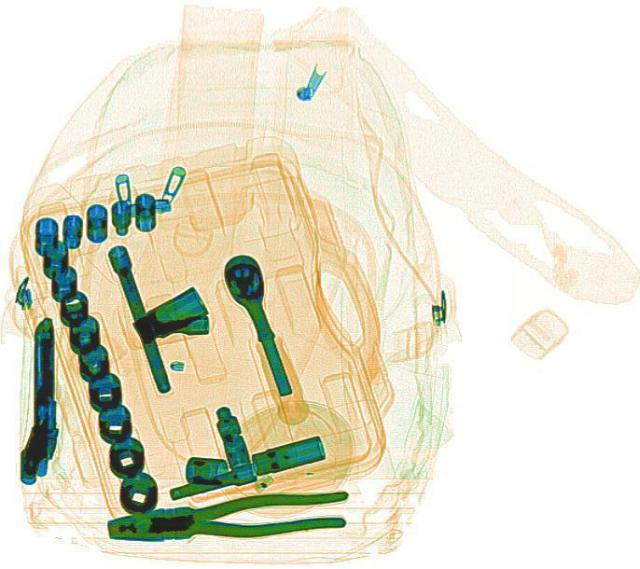Gun: (7, 315, 63, 483)
Pliers: (105, 483, 352, 549)
